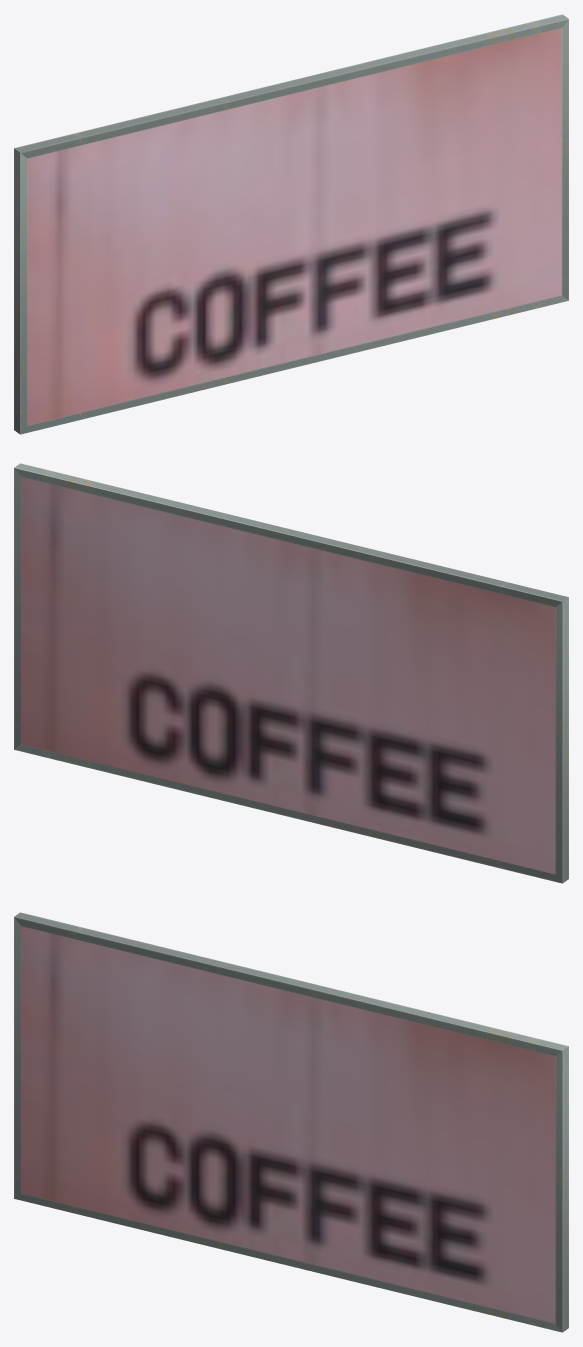
File: shopboard06g.fbx
3 views of the same model, one above another, from view 1: azimuth 30°, elevation 25°; view 2: azimuth 150°, elevation 25°; view 3: azimuth 330°, elevation 25° (orthographic).
Parts seen in each view (by area): view 1: shopboard06g; view 2: shopboard06g; view 3: shopboard06g.
Part boxes in pixels (box(x1,y1,x2,y2)): shopboard06g: box(14, 14, 568, 434); shopboard06g: box(14, 463, 568, 883); shopboard06g: box(14, 912, 568, 1332).
Bounding box in the file's own units: 126 × 61.63 × 2.51.
